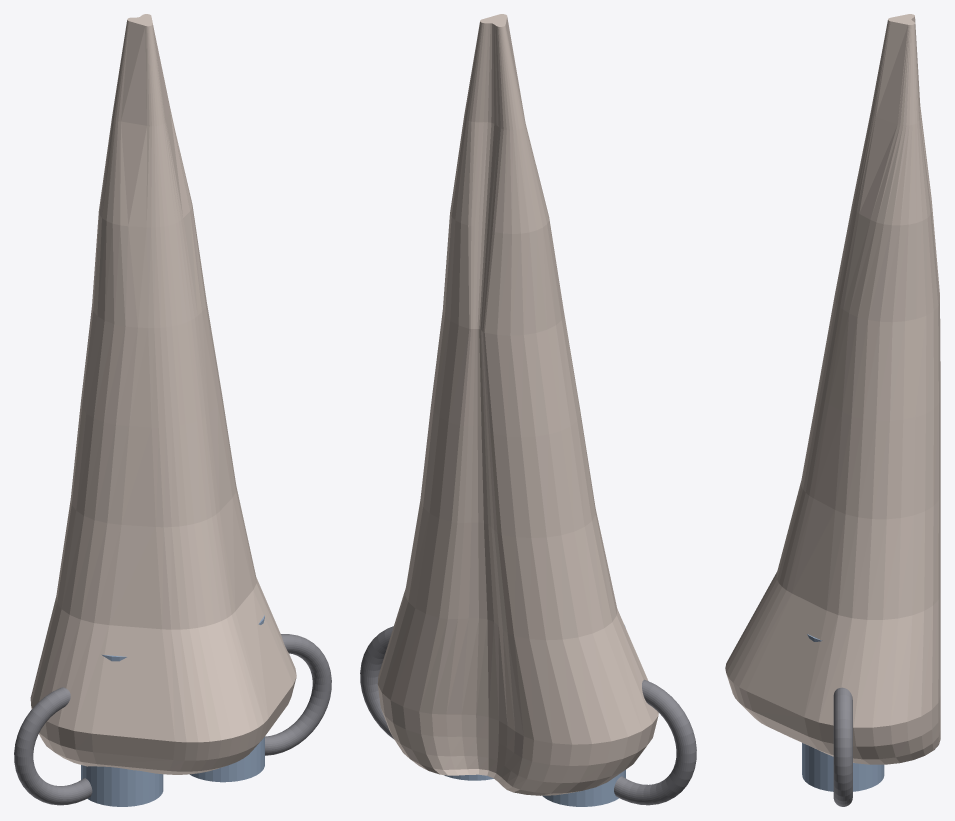
The picture shows the model from 3 angles, left to right: view 1: azimuth 30°, elevation 25°; view 2: azimuth 150°, elevation 25°; view 3: azimuth 270°, elevation 25°; orthographic projection. The views are drawn at different scales.
Parts seen in each view (by area): view 1: body, frame_left, frame_right, plug_left, plug_right; view 2: body, frame_left, frame_right, plug_left; view 3: body, frame_right, plug_right.
Part boxes in pixels (bbox=[...]): body: bbox=[30, 14, 296, 774]; frame_left: bbox=[14, 687, 92, 805]; frame_right: bbox=[265, 634, 331, 755]; plug_left: bbox=[81, 654, 163, 806]; plug_right: bbox=[190, 615, 264, 782]; body: bbox=[377, 14, 658, 795]; frame_left: bbox=[614, 679, 696, 805]; frame_right: bbox=[360, 626, 394, 739]; plug_left: bbox=[542, 625, 625, 806]; body: bbox=[725, 14, 940, 764]; frame_right: bbox=[833, 687, 852, 806]; plug_right: bbox=[802, 634, 884, 791].
Size of the model in its own units: 26.4 by 58.89 by 15.7.
